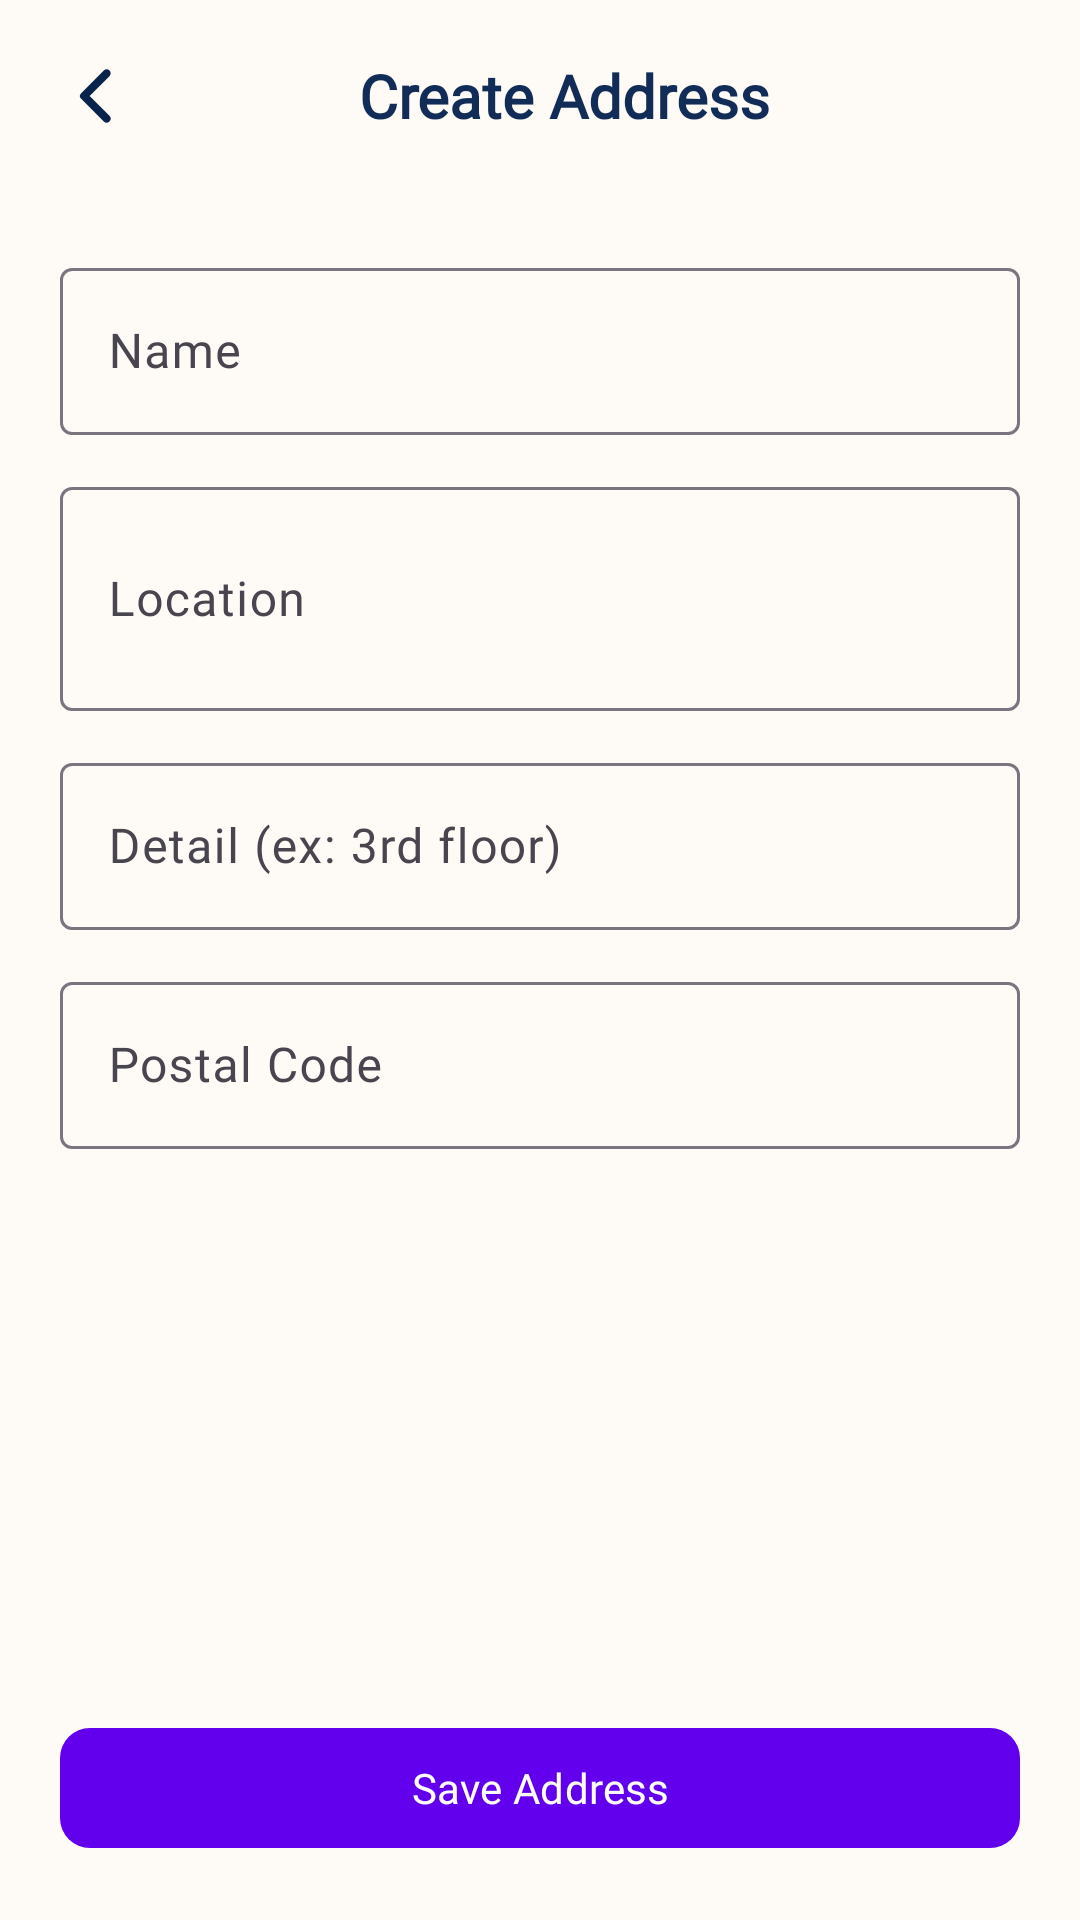

Where to tap for icons on this 1080*1920 app screen, as [x,y]:
left line: [95,96]
